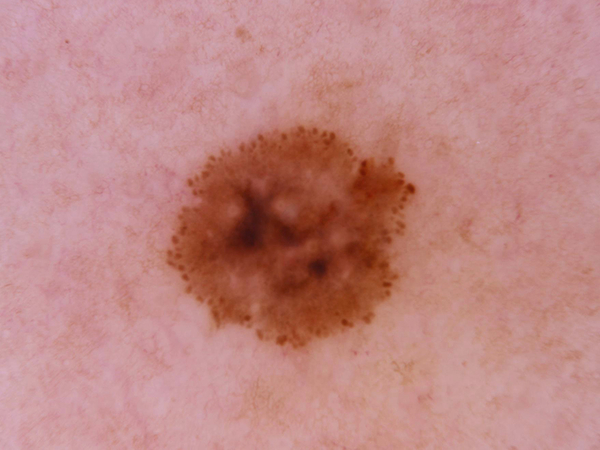Detected Lesion: (160, 123, 420, 353)
